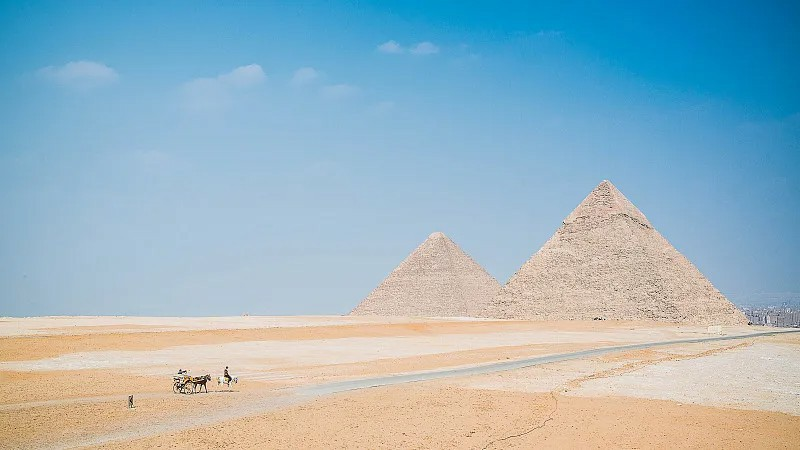Pyramid: (475, 178, 756, 325), (347, 232, 503, 316)
